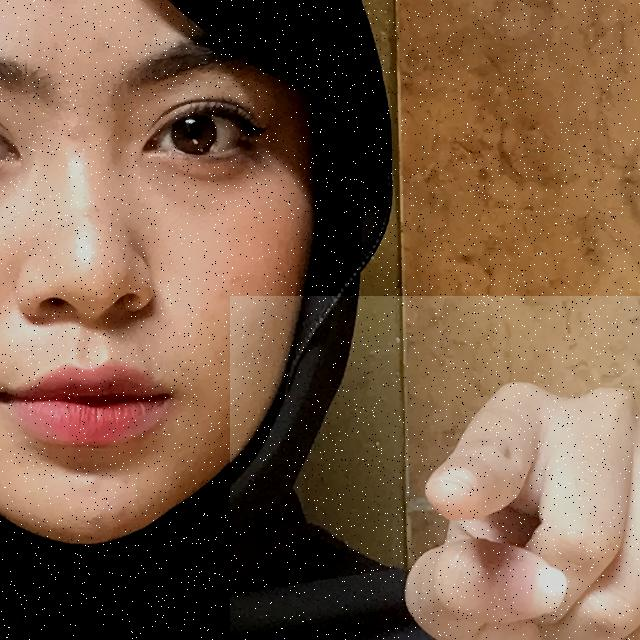kamu: (230, 296, 640, 640)
